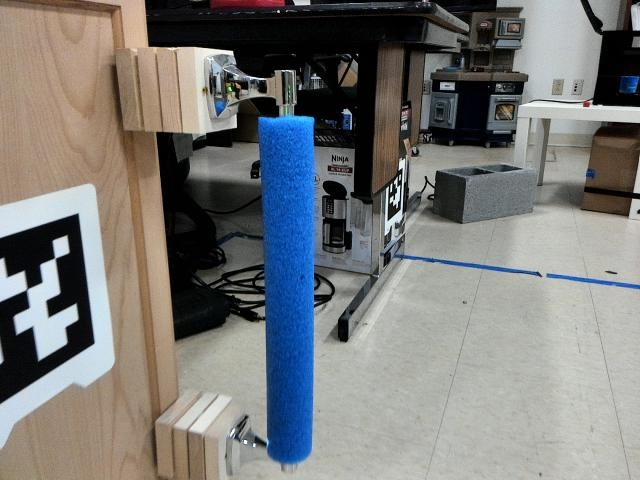noodle_handle: (245, 79, 333, 469)
